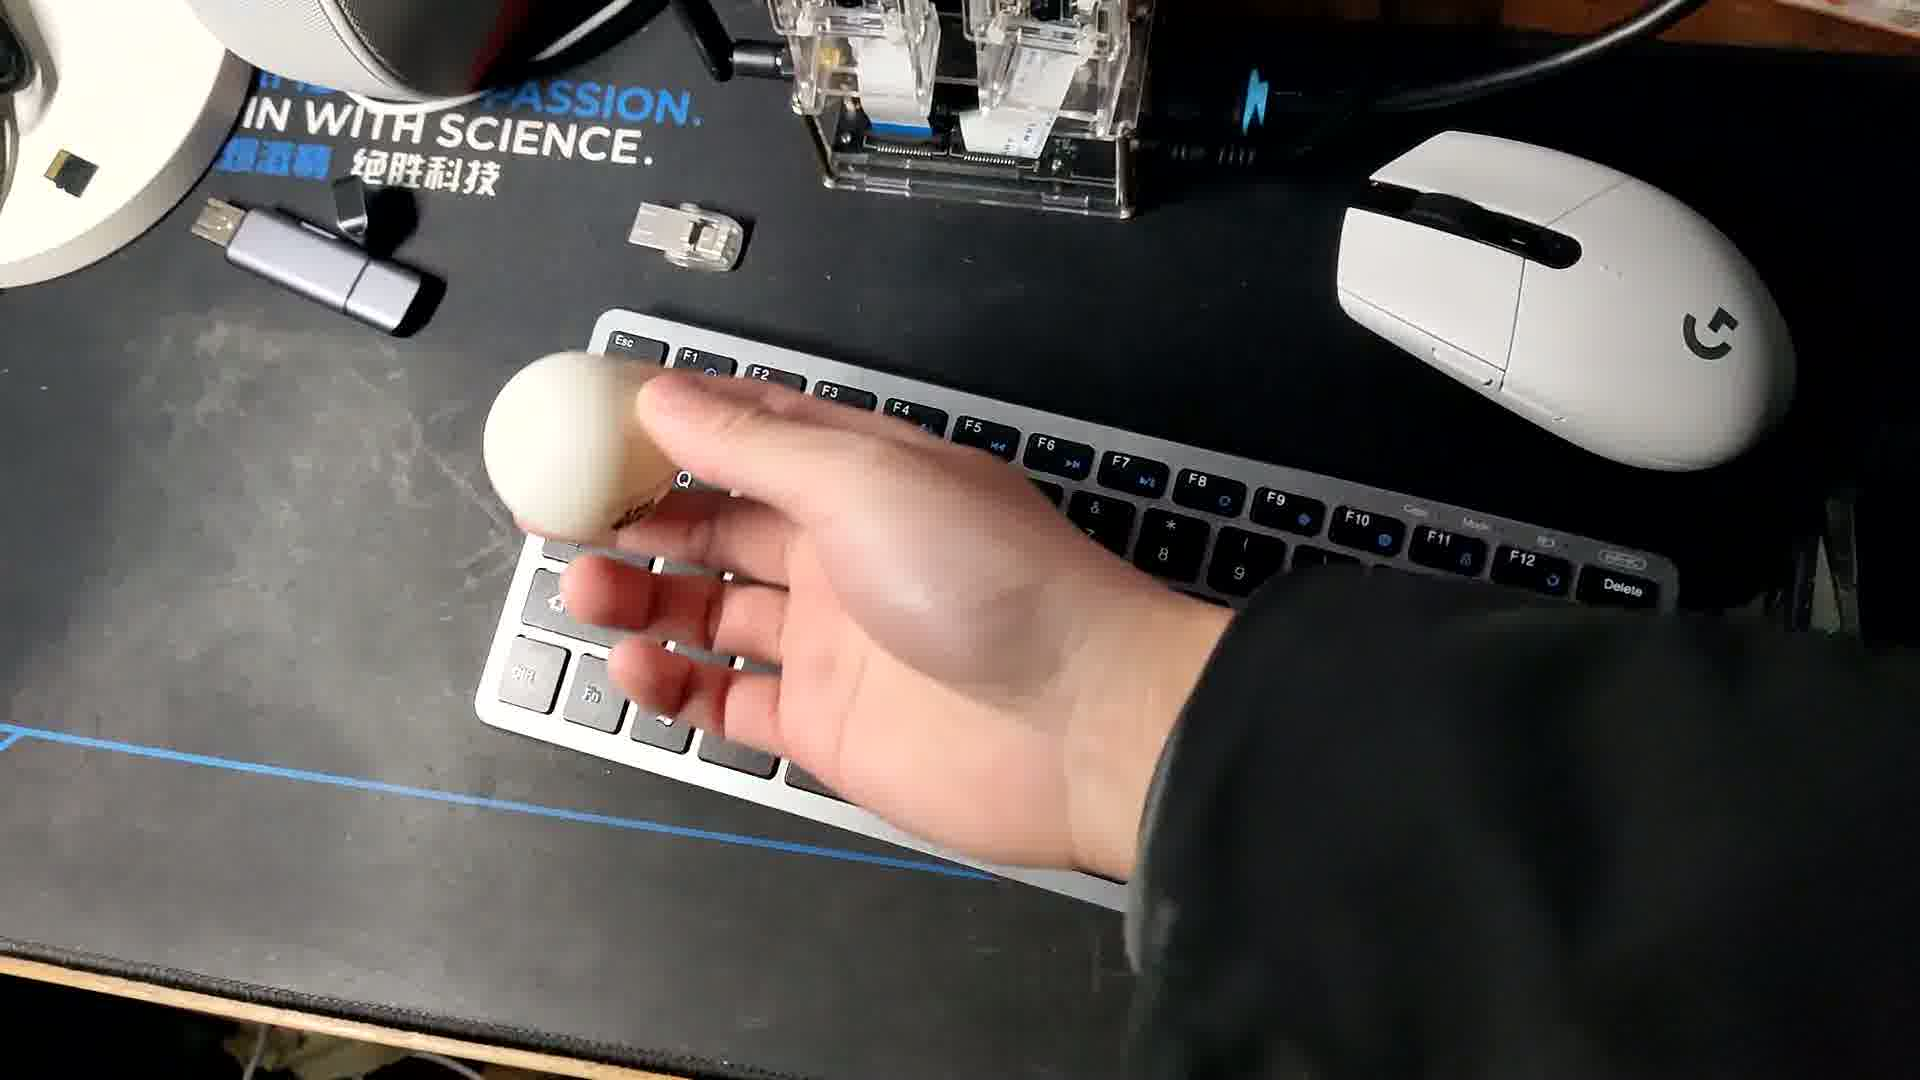Ball: (488, 352, 684, 535)
